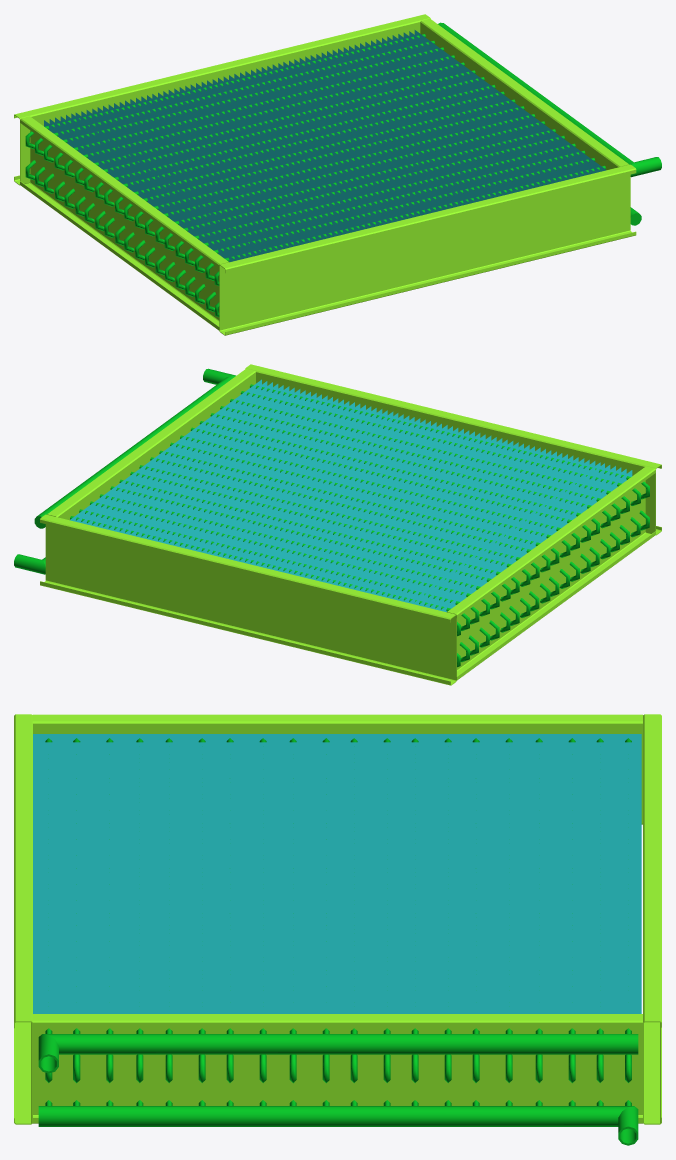
File: nagretSoplya.FBX
The picture shows the model from 3 angles, top to bottom: view 1: azimuth 30°, elevation 25°; view 2: azimuth 150°, elevation 25°; view 3: azimuth 270°, elevation 25°; orthographic projection. The views are drawn at different scales.
Visible parts, largest first — view 1: nagretSoplya; view 2: nagretSoplya; view 3: nagretSoplya.
Boxes of the visible parts, <box> form: nagretSoplya: <box>14,14,661,335</box>; nagretSoplya: <box>14,364,661,685</box>; nagretSoplya: <box>14,714,661,1145</box>.
Bounding box in the file's own units: 722 × 104 × 595.
